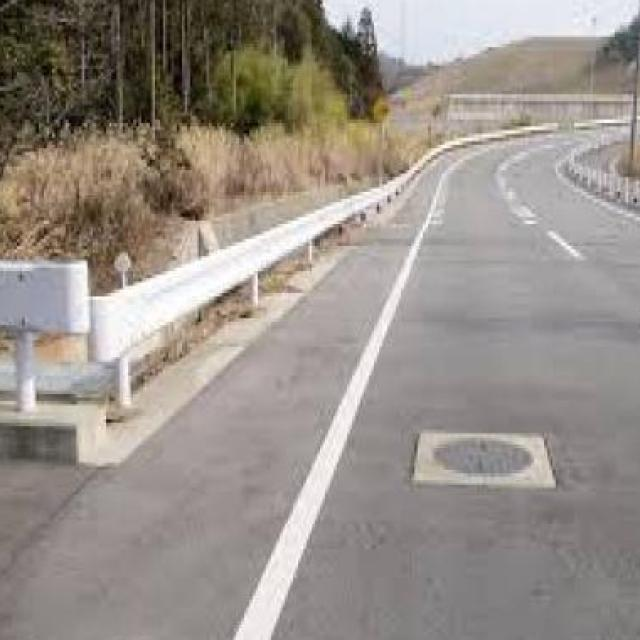Guard rail: (88, 106, 562, 436), (0, 246, 89, 416)
